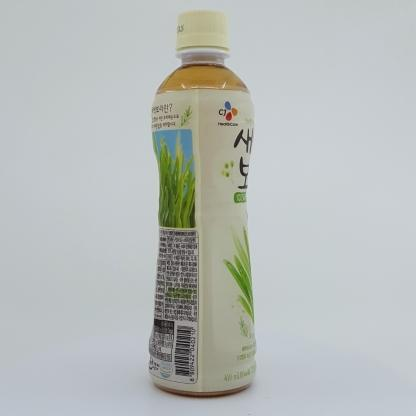CJ-----410ML: (148, 10, 256, 398)
